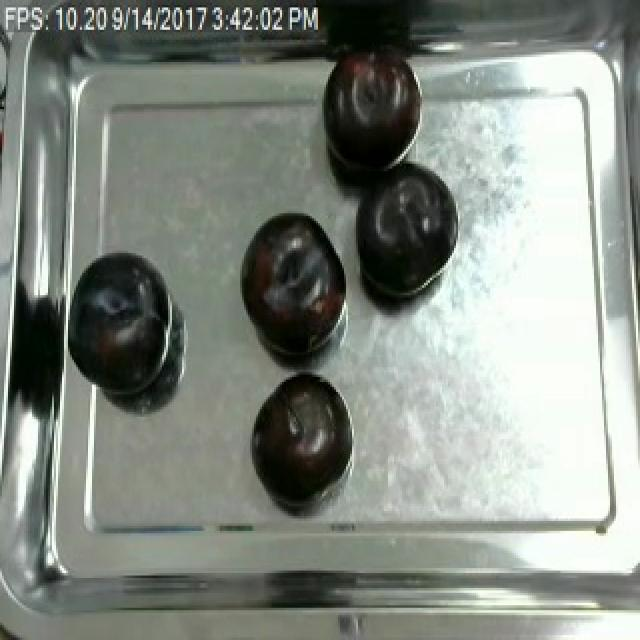Fruit: (64, 243, 176, 402), (236, 206, 350, 360), (350, 156, 460, 305), (320, 47, 426, 174), (246, 372, 342, 504)
